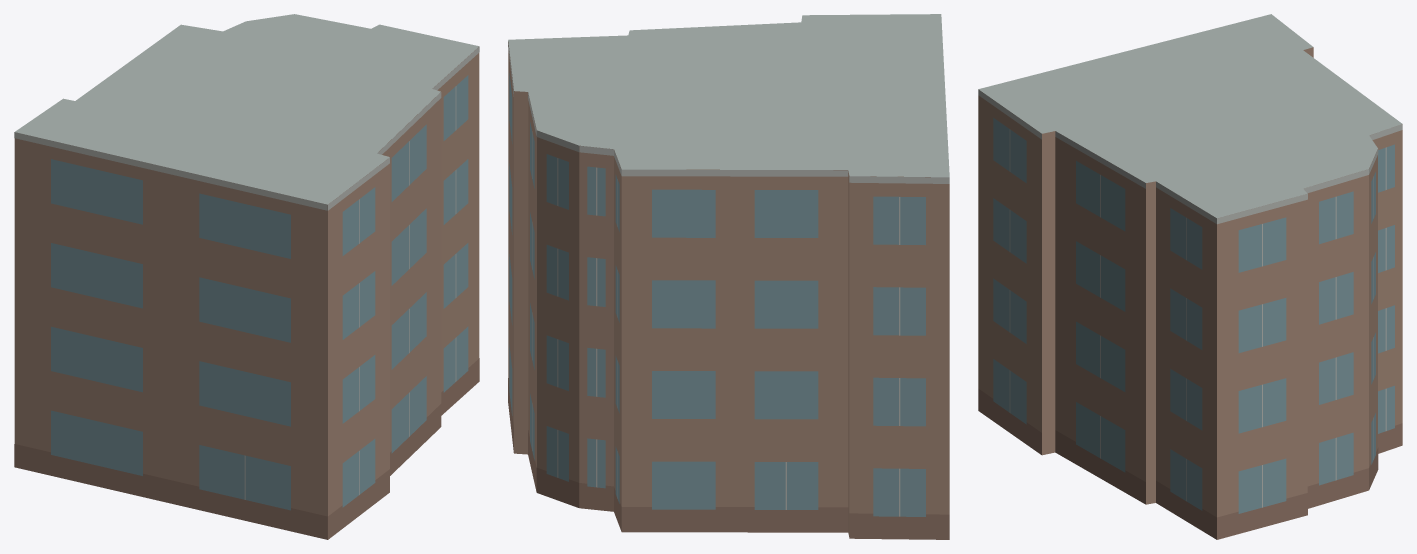
Rendered from survey-upis-32797553.glb.
The picture shows the model from 3 angles, left to right: view 1: azimuth 30°, elevation 25°; view 2: azimuth 150°, elevation 25°; view 3: azimuth 270°, elevation 25°; orthographic projection. The views are drawn at different scales.
Parts seen in each view (by area): view 1: survey-upis-32797553.tmp; view 2: survey-upis-32797553.tmp; view 3: survey-upis-32797553.tmp.
Part boxes in pixels (x1=…): survey-upis-32797553.tmp: x1=14, y1=14, x2=479, y2=539; survey-upis-32797553.tmp: x1=508, y1=14, x2=949, y2=539; survey-upis-32797553.tmp: x1=978, y1=14, x2=1402, y2=539.
Bounding box in the file's own units: 18.07 × 13.25 × 15.86.
